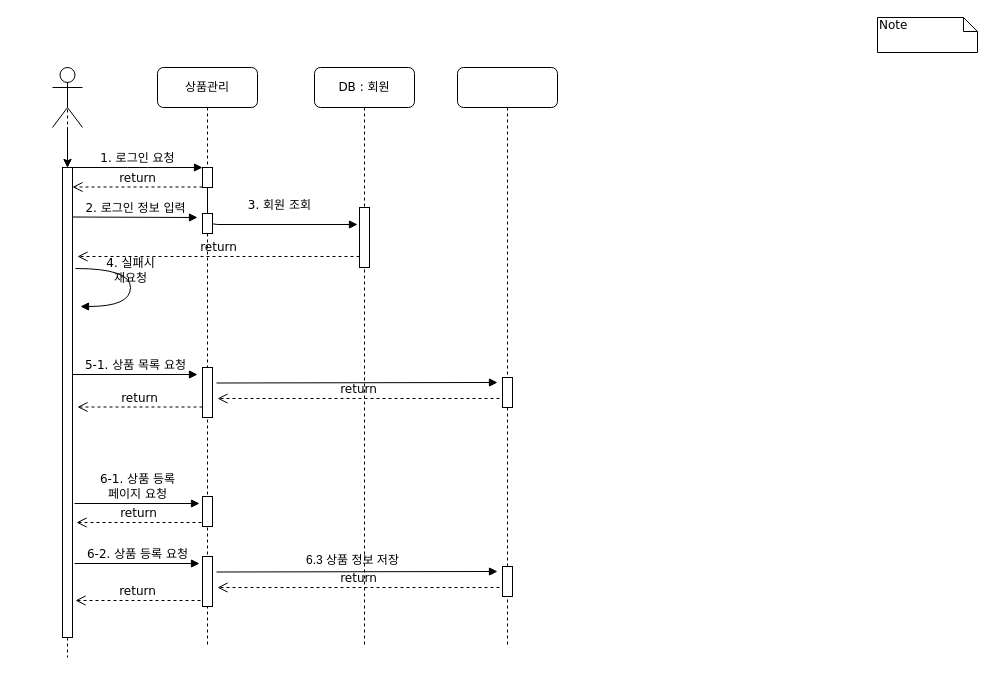
The diagram is 995 pixels wide and 675 high, and some of its shapes have lost their labels. Here are the shapes that lost their labels. From the top down, the centre of each, then its label:
At [67,97]: "관리자".
At [507,357]: "DB : 상품&옵션".
